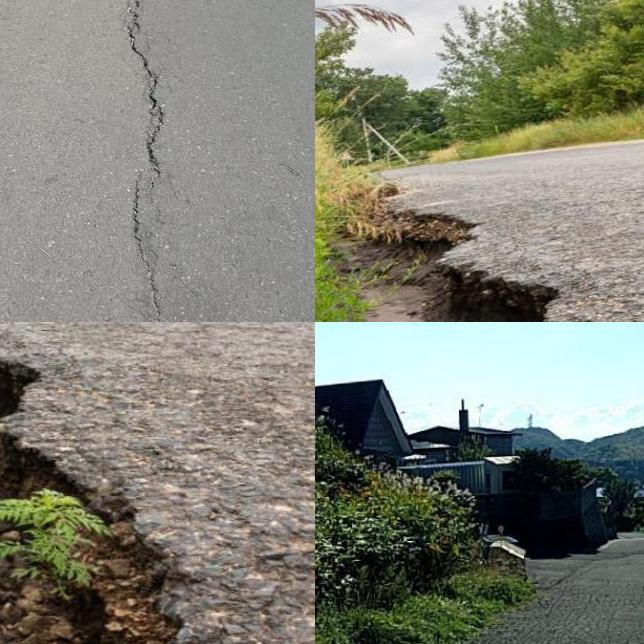Memanjang: (111, 0, 175, 322)
Pinggir: (0, 344, 235, 644), (364, 199, 574, 322)
